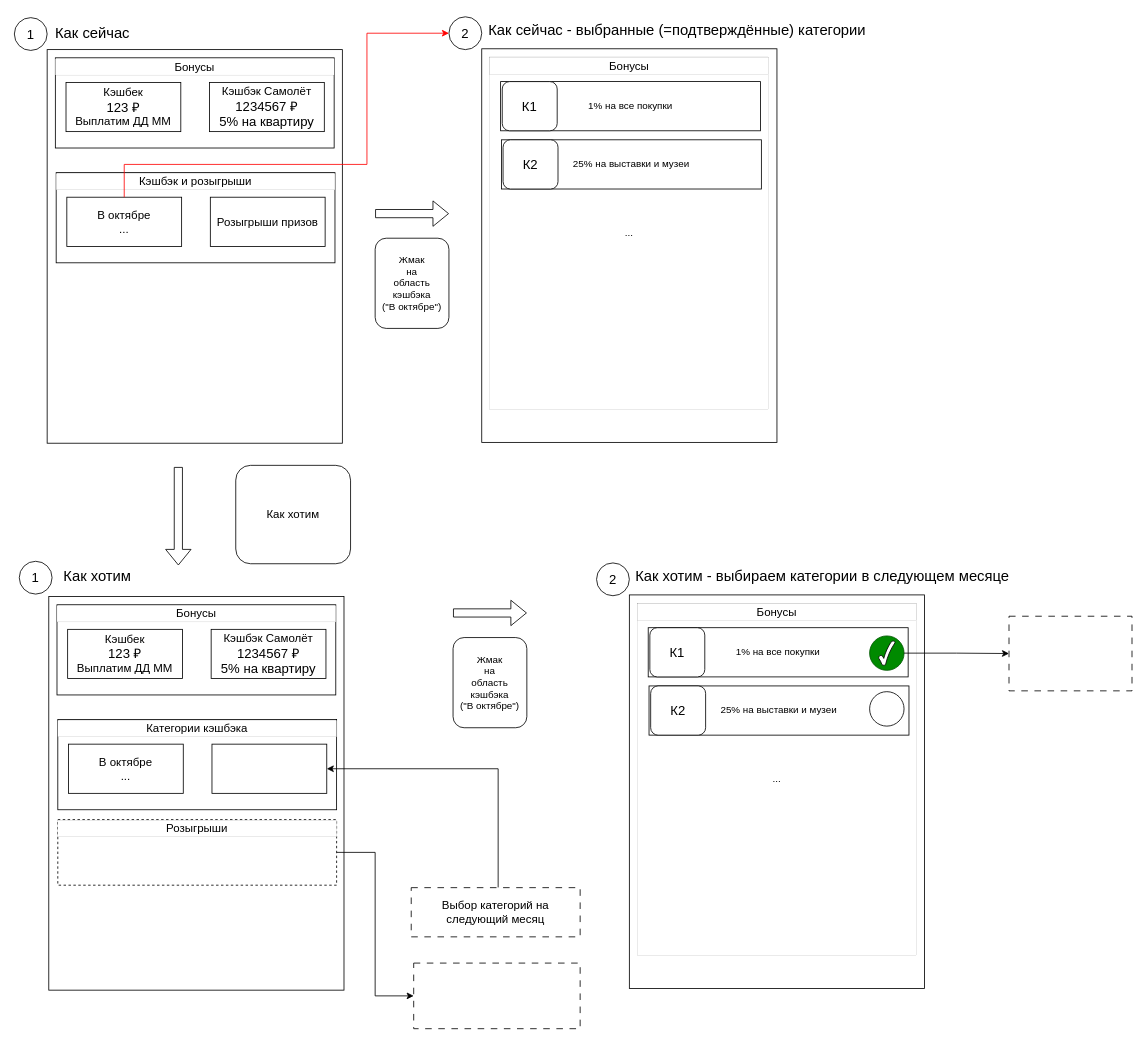
Some shapes in this 1146 by 1043 pixel diagram are drawn without their labels. Here are the shapes that lost their labels. From the top down, the centre of each, then its label:
At [1070,653]: "Жмак на кружок появляется галочка и область закрашивается зелёным".
At [269,768]: "В ноябре ...".
At [496,995]: "Эта область будет появляться когда будет время розыгрышей".
